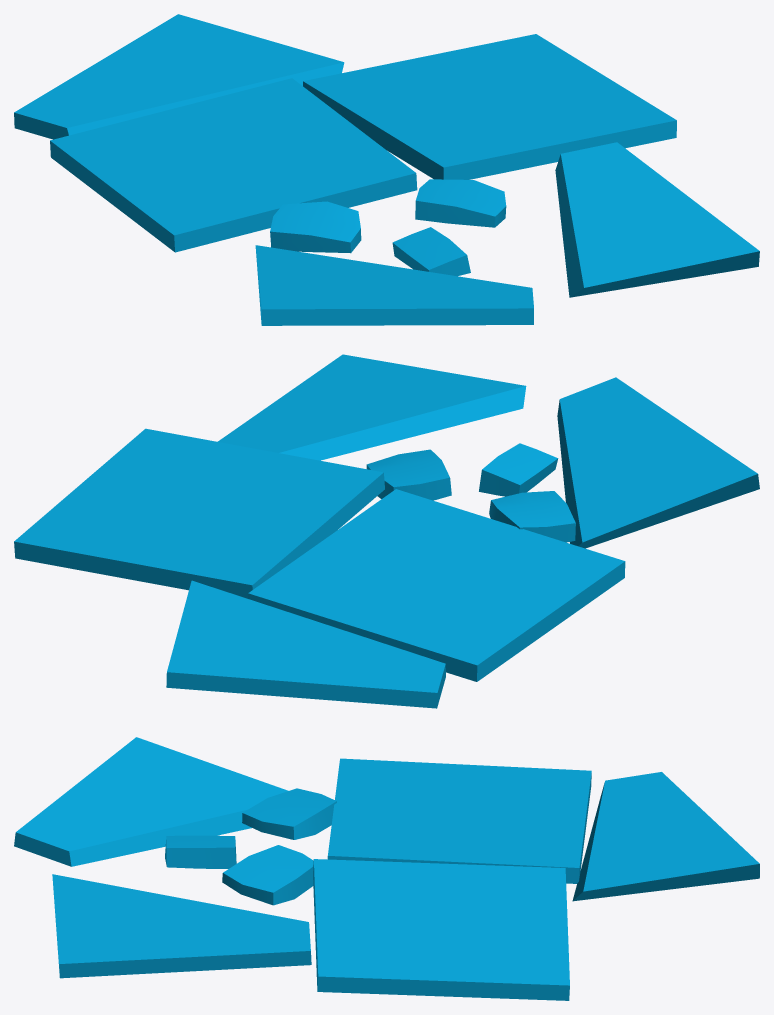
The model's file is Debris_Tile_04B.fbx.
The picture shows the model from 3 angles, top to bottom: view 1: azimuth 30°, elevation 25°; view 2: azimuth 150°, elevation 25°; view 3: azimuth 270°, elevation 25°; orthographic projection. The views are drawn at different scales.
Visible parts, largest first — view 1: Debris_Tile_04B; view 2: Debris_Tile_04B; view 3: Debris_Tile_04B.
Boxes of the visible parts, left/top/right/bottom form: Debris_Tile_04B: left=14, top=14, right=759, bottom=325; Debris_Tile_04B: left=14, top=354, right=759, bottom=708; Debris_Tile_04B: left=14, top=737, right=759, bottom=1000.
Bounding box in the file's own units: 71.37 × 5.7 × 96.84.
